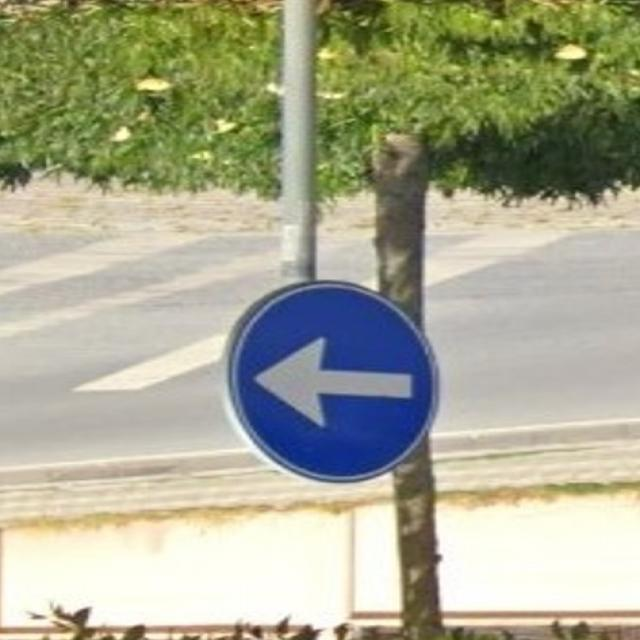Turn Left: (233, 287, 447, 487)
